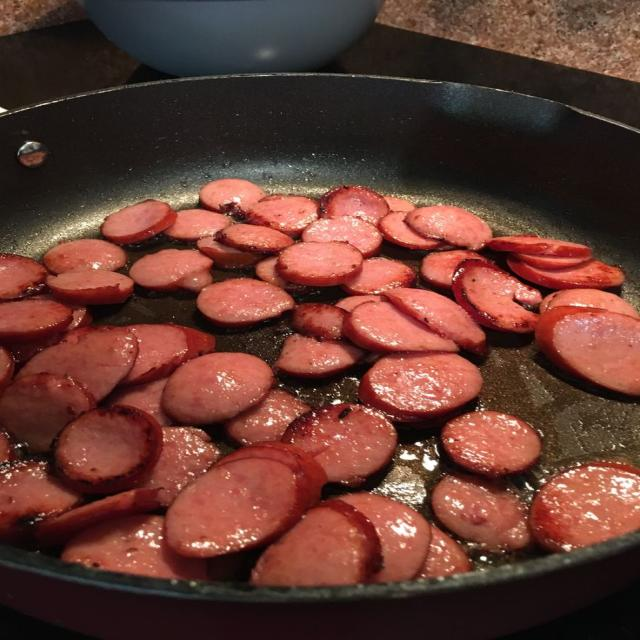sausage: (167, 457, 306, 557), (251, 500, 381, 586), (530, 462, 639, 551), (282, 404, 397, 486), (54, 406, 162, 493), (61, 515, 207, 579), (536, 306, 639, 396), (17, 327, 138, 402), (360, 353, 482, 422), (339, 492, 432, 582), (162, 353, 274, 425), (0, 373, 95, 453), (35, 488, 161, 547), (431, 475, 530, 550), (220, 442, 327, 508), (385, 288, 486, 354), (136, 427, 220, 506), (441, 411, 541, 477), (0, 460, 81, 540), (453, 260, 541, 333), (343, 302, 458, 352), (8, 305, 92, 364), (197, 278, 294, 328), (225, 389, 310, 445), (120, 325, 189, 386), (274, 335, 364, 378), (276, 242, 363, 286), (406, 206, 492, 250), (507, 258, 625, 289), (130, 249, 213, 291), (101, 199, 176, 244), (302, 216, 382, 257), (47, 267, 133, 304), (0, 299, 72, 343), (107, 379, 172, 426), (416, 526, 472, 578), (247, 196, 318, 237), (43, 239, 126, 274), (341, 258, 416, 295), (540, 289, 639, 317), (320, 186, 389, 225), (420, 250, 487, 289), (487, 235, 591, 260), (380, 211, 445, 250), (215, 224, 293, 254), (0, 254, 47, 302), (200, 179, 266, 213), (164, 209, 233, 241), (255, 256, 313, 294), (197, 237, 262, 269), (292, 303, 347, 339), (512, 253, 589, 269), (180, 327, 215, 359), (63, 303, 93, 333), (336, 295, 384, 312), (179, 270, 213, 292), (0, 346, 15, 392), (0, 430, 16, 463), (383, 196, 416, 212)
